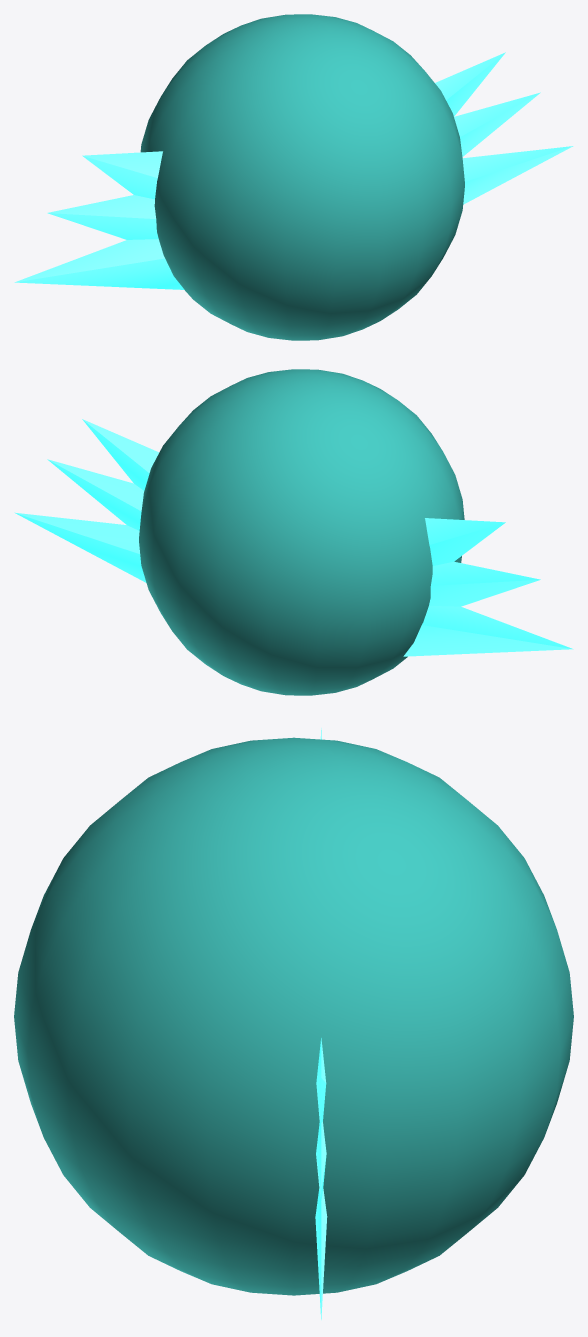
File: zephyr_stage3.glb
The picture shows the model from 3 angles, top to bottom: view 1: azimuth 30°, elevation 25°; view 2: azimuth 150°, elevation 25°; view 3: azimuth 270°, elevation 25°; orthographic projection. The views are drawn at different scales.
Visible parts, largest first — view 1: Body; view 2: Body; view 3: Body.
Boxes of the visible parts, x1,y1,x2,y2 form: Body: (14, 14, 573, 340); Body: (14, 369, 573, 695); Body: (14, 728, 573, 1319).
Size of the model in its own units: 2.02 by 1.03 by 1.03.
